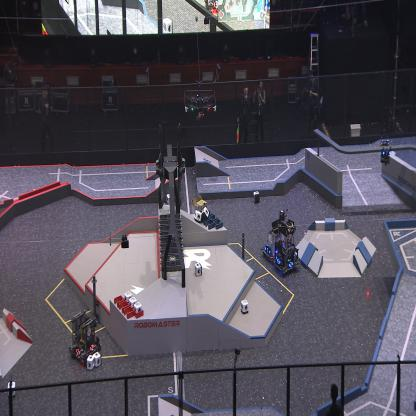car: (68, 308, 102, 364), (275, 219, 300, 274), (262, 220, 282, 266), (191, 195, 209, 237), (276, 207, 289, 230)
